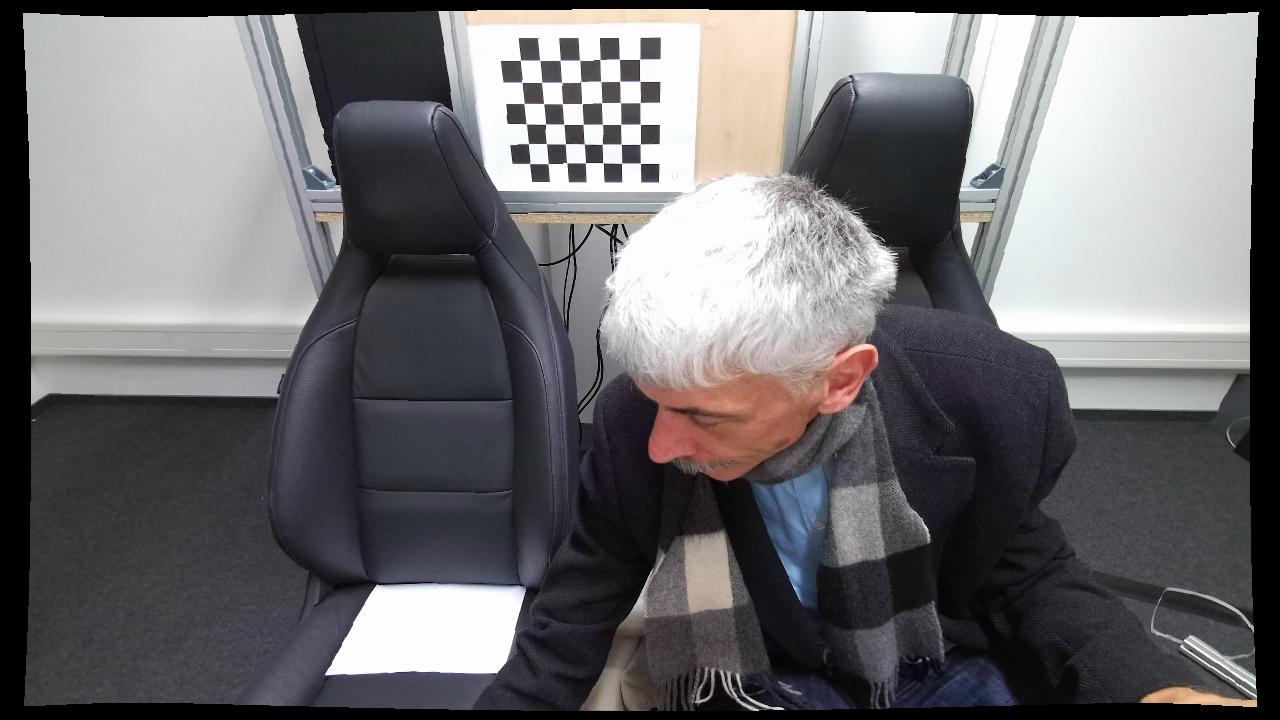Distracted: (467, 163, 1087, 714)
